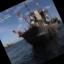fishing boat: (3, 0, 64, 53)
